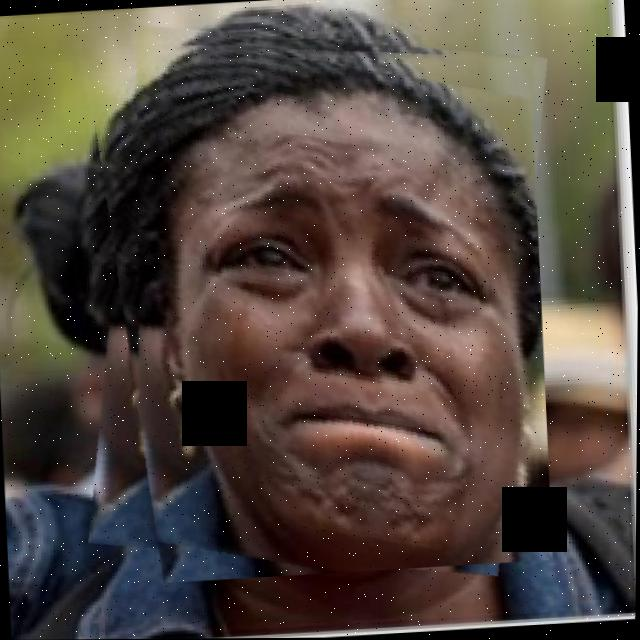sad: (80, 15, 557, 587)
